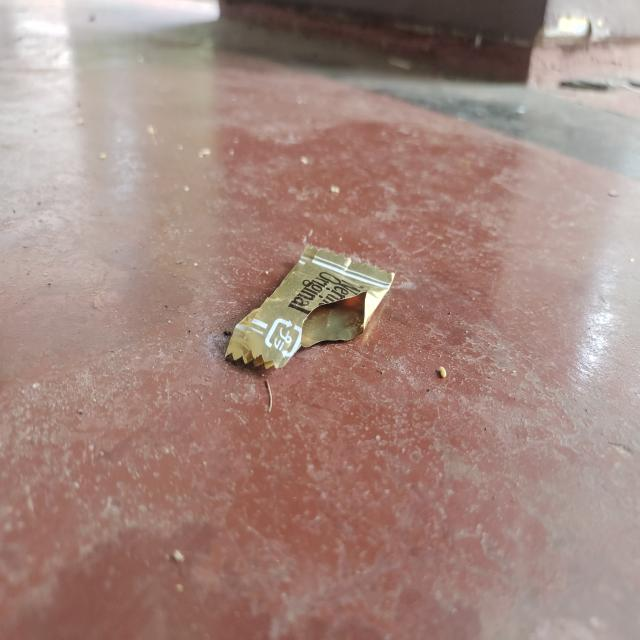plastic: (228, 241, 398, 372)
